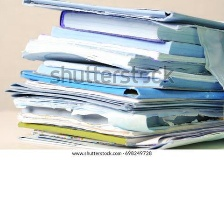book: (2, 24, 223, 151), (54, 4, 223, 48), (18, 0, 224, 25)
